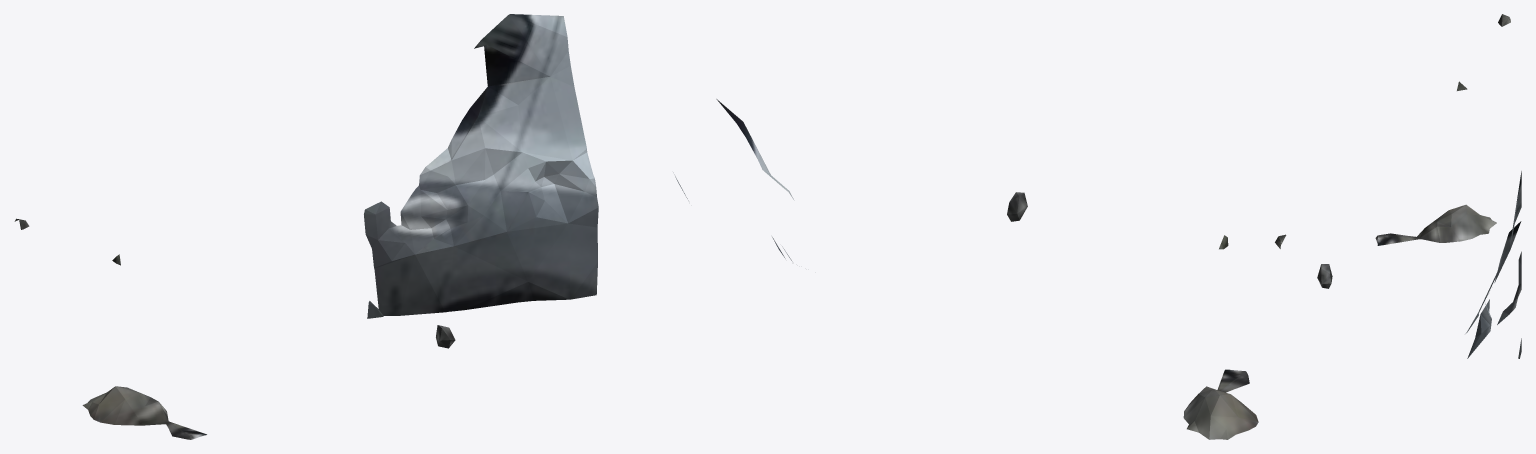
The picture shows the model from 3 angles, left to right: view 1: azimuth 30°, elevation 25°; view 2: azimuth 150°, elevation 25°; view 3: azimuth 270°, elevation 25°; orthographic projection. The views are drawn at different scales.
Bounding box in the file's own units: 1.67 × 0.7782 × 0.5843.
Materials: 1 (1 with a texture image).
